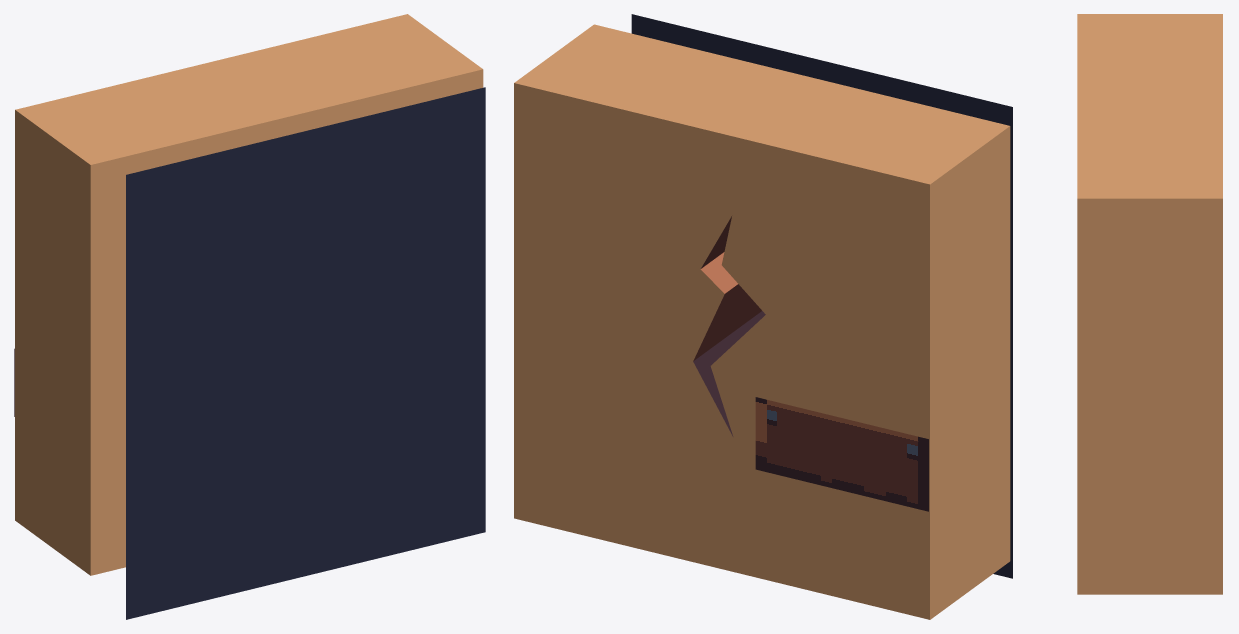
The model's file is ShopWall.gltf.
3 views of the same model, side by side, from view 1: azimuth 30°, elevation 25°; view 2: azimuth 150°, elevation 25°; view 3: azimuth 270°, elevation 25° (orthographic). The views are drawn at different scales.
Parts seen in each view (by area): view 1: mesh; view 2: mesh, plane; view 3: mesh.
Part boxes in pixels (x1,y1,x2,y2): mesh: [15, 14, 485, 619]; mesh: [514, 14, 1012, 619]; plane: [755, 397, 928, 511]; mesh: [1077, 14, 1222, 594].
Size of the model in its own units: 1.5 by 1.62 by 0.6312.
1 material, 1 textured.
